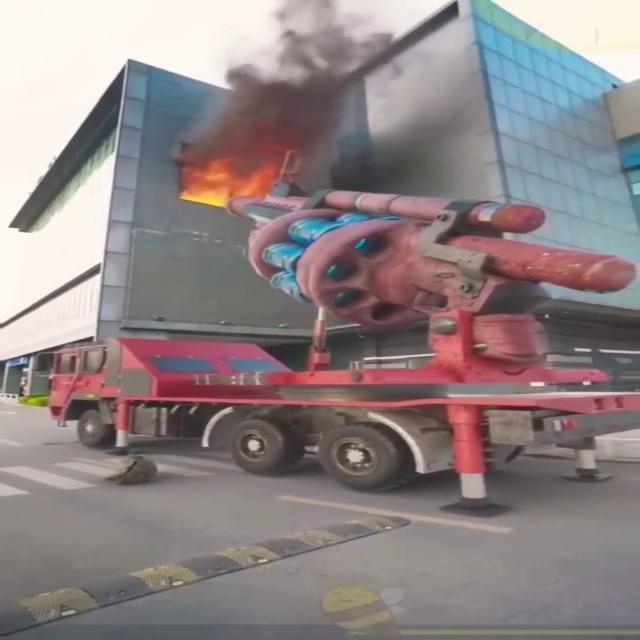Fire: (170, 145, 294, 209)
Smoke: (192, 0, 488, 166)
